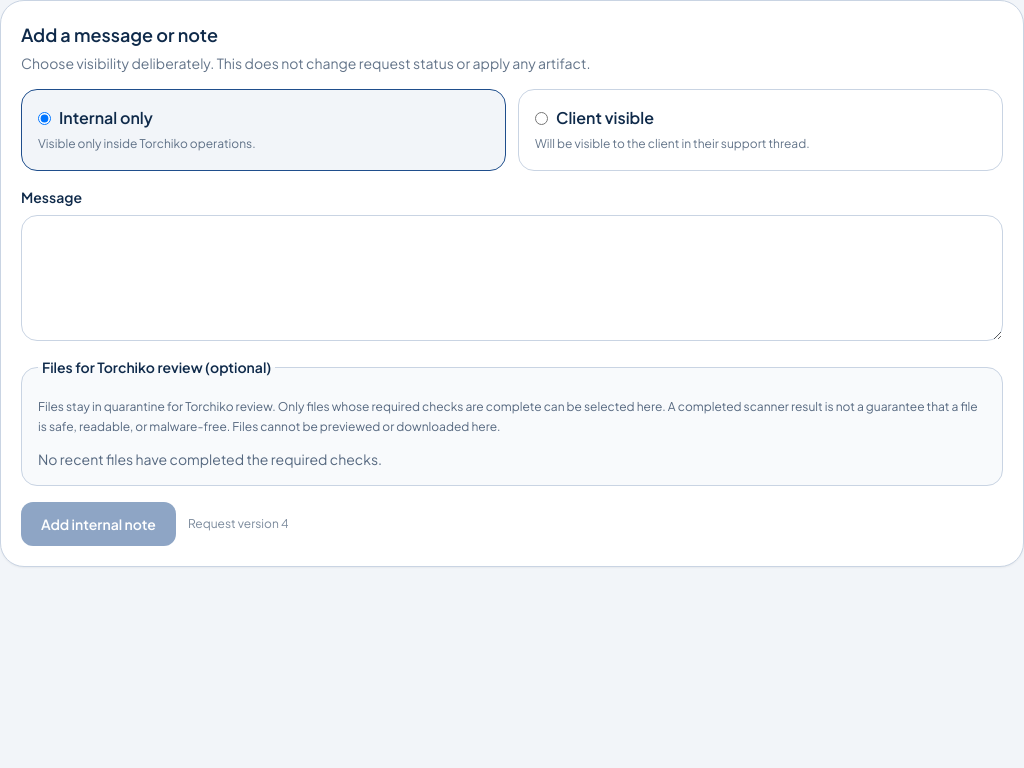
Scenario: support operations UI › serializes writes and sends the explicit visibility with CAS version
The image size is (1024, 768).
Type "Draft response" into the text box labelled "Message". click: (512,278)
box: top-left (21, 215), bottom-right (1003, 341)
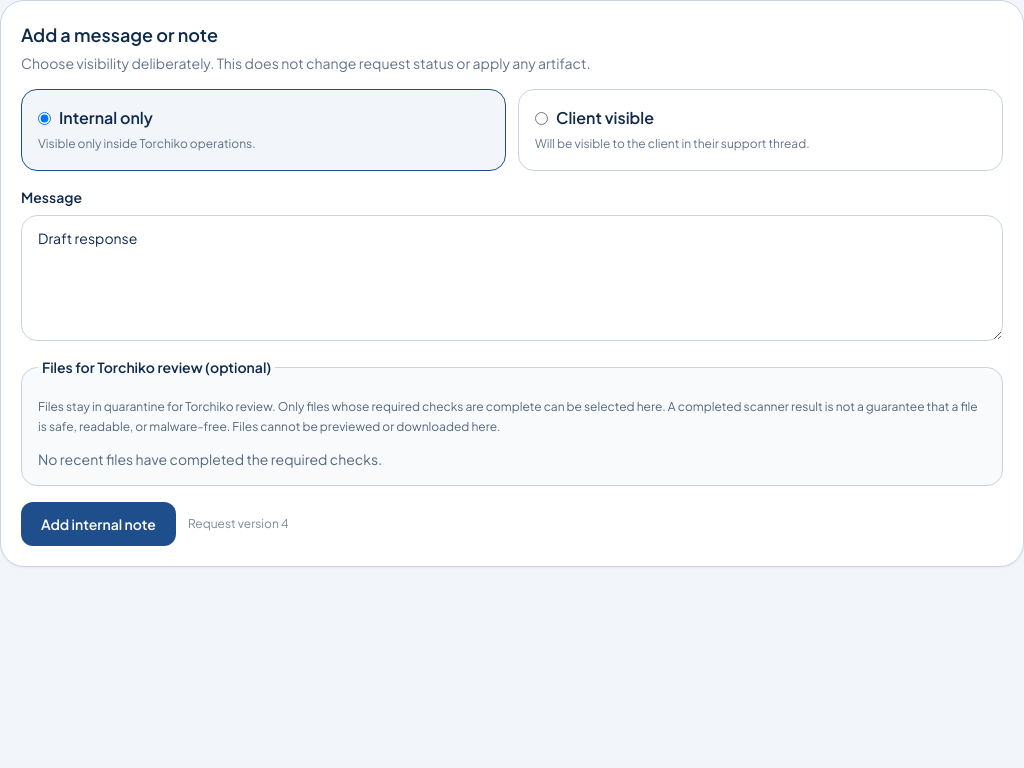
Click the radio button labelled "Client visible". click: (542,118)
box: top-left (535, 112), bottom-right (548, 124)
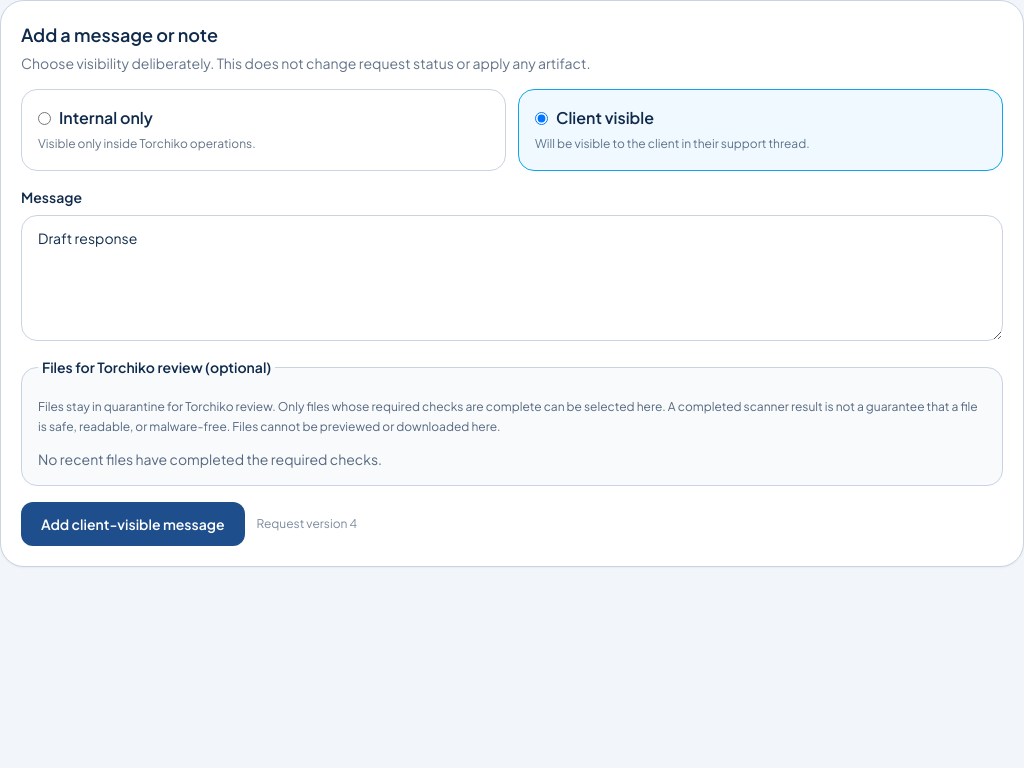
Click the button "Add client-visible message". click: (133,524)
box: top-left (21, 502), bottom-right (244, 546)
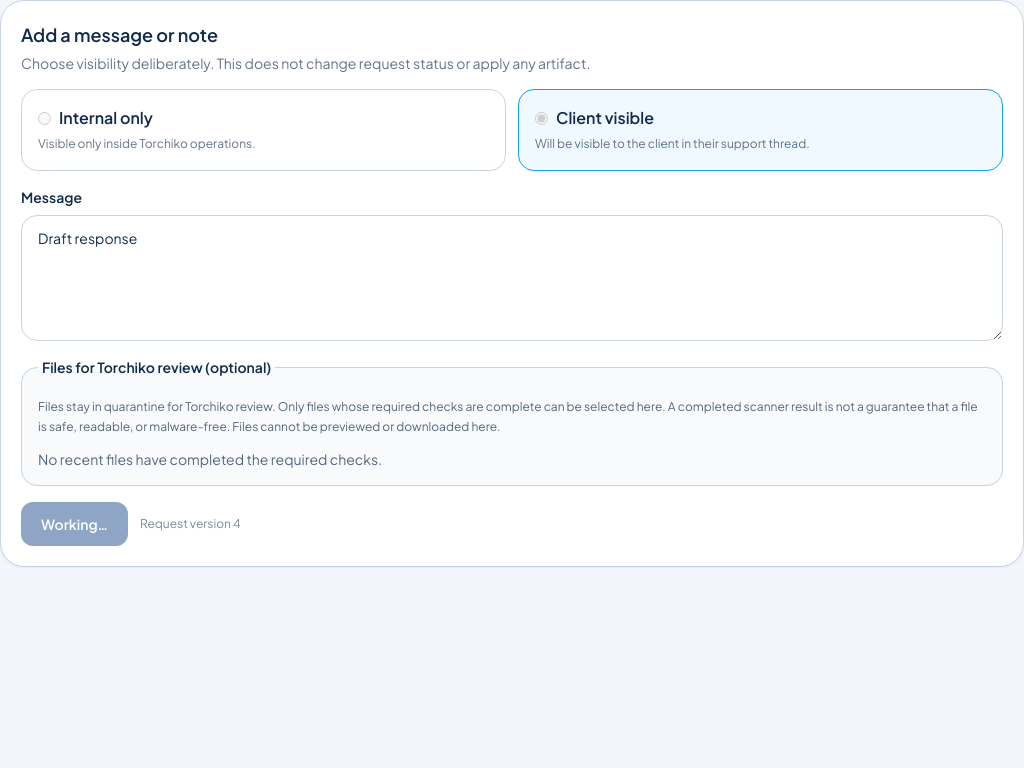
Click the button named "Add client-visible message". click: (74,524)
box: top-left (21, 502), bottom-right (128, 546)
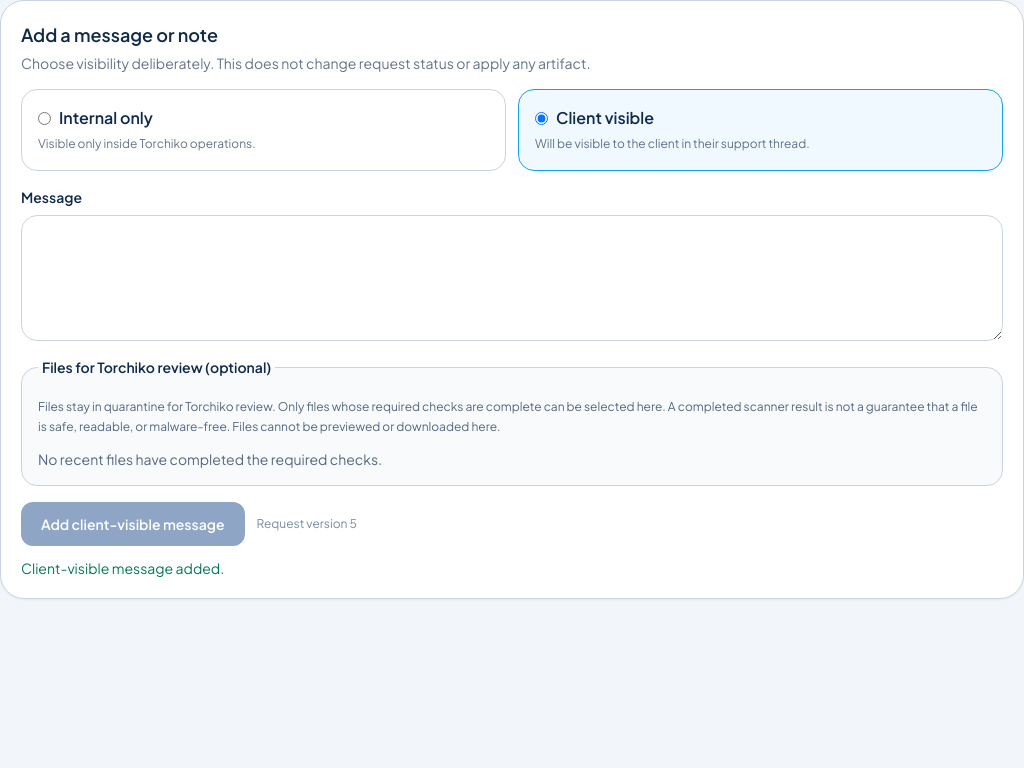
Result: the text "Client-visible message added." is shown at top-left (21, 559), bottom-right (224, 577)
